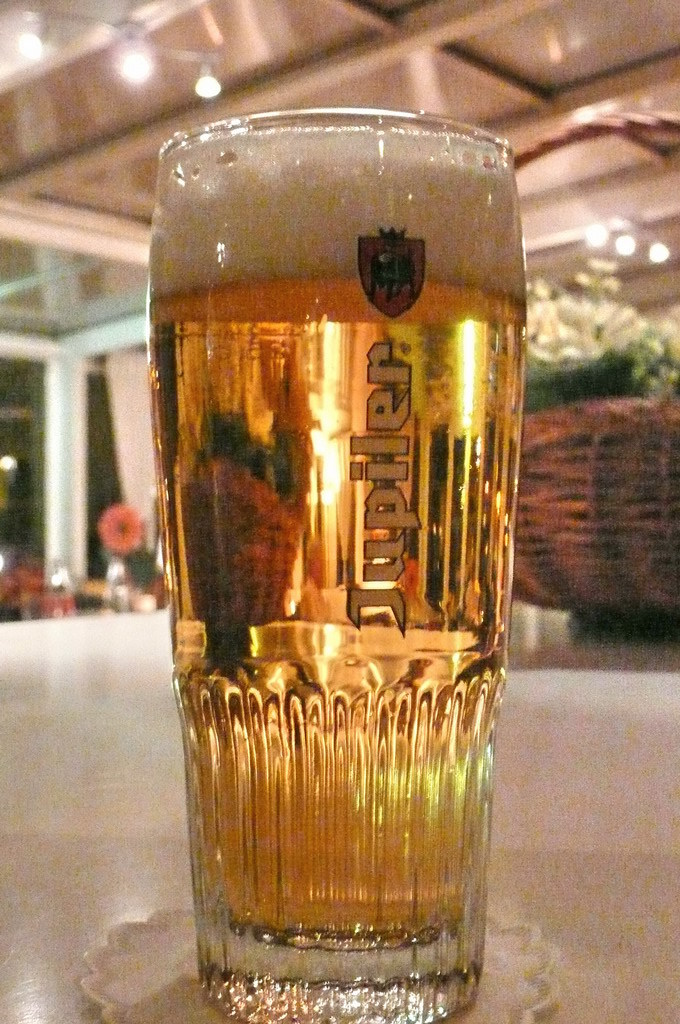Beer: (142, 120, 527, 967)
